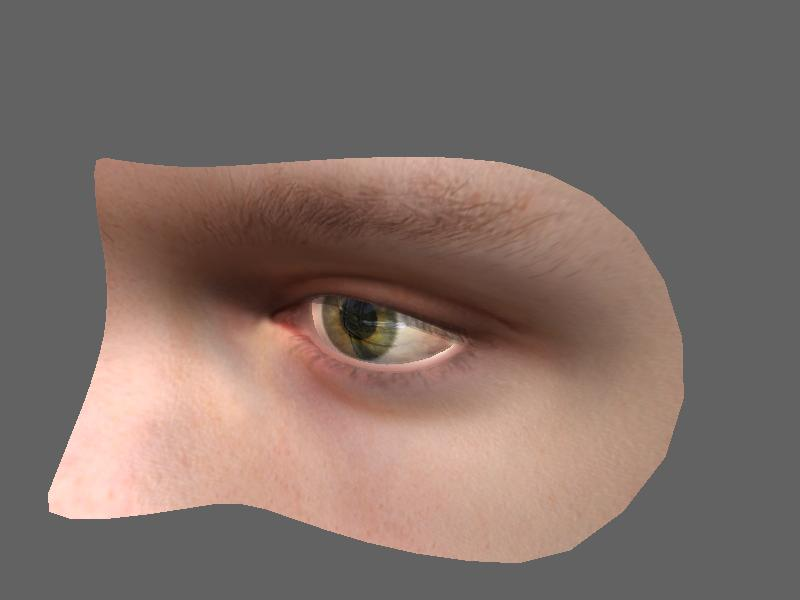iris: (320, 295, 403, 362)
